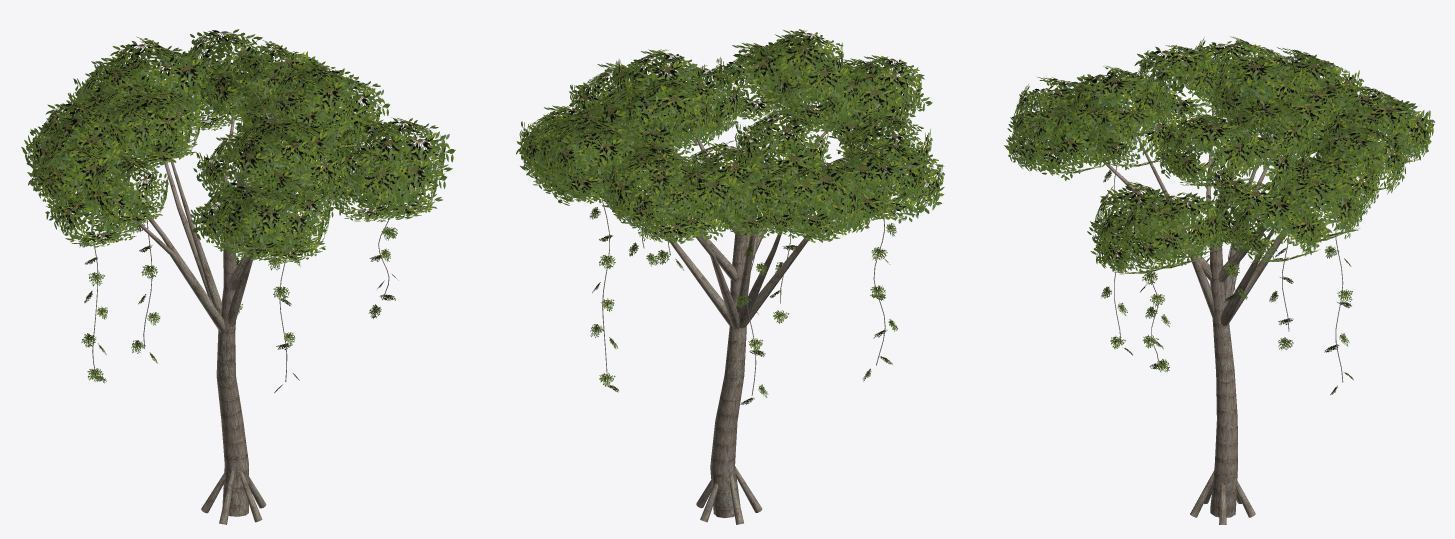
The model's file is tree_02.glb.
3 views of the same model, side by side, from view 1: azimuth 30°, elevation 25°; view 2: azimuth 150°, elevation 25°; view 3: azimuth 270°, elevation 25° (orthographic). The views are drawn at different scales.
Parts seen in each view (by area): view 1: tree_02; view 2: tree_02; view 3: tree_02.
Boxes of the visible parts, box(x1,y1,x2,y2) form: tree_02: box(21, 29, 455, 524); tree_02: box(516, 29, 944, 524); tree_02: box(1004, 36, 1435, 524).
Bounding box in the file's own units: 10.37 × 10.91 × 10.06.
2 materials, 2 textured.
